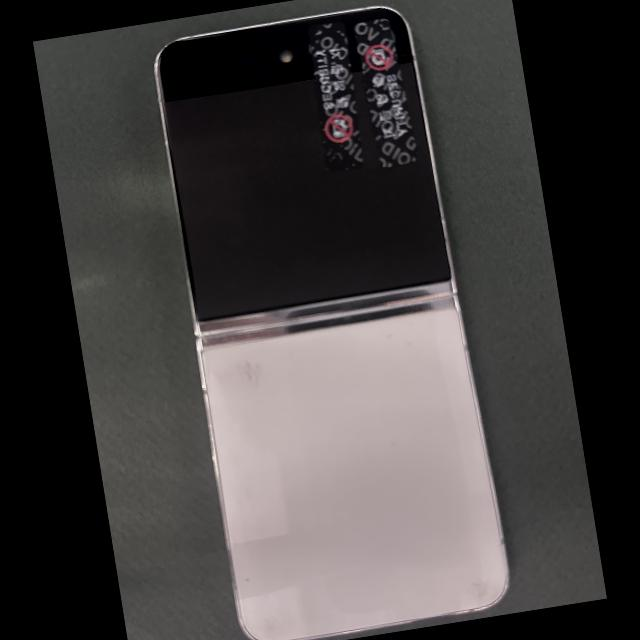phone: (155, 8, 507, 639)
sticker: (354, 18, 419, 168), (308, 22, 364, 172)
